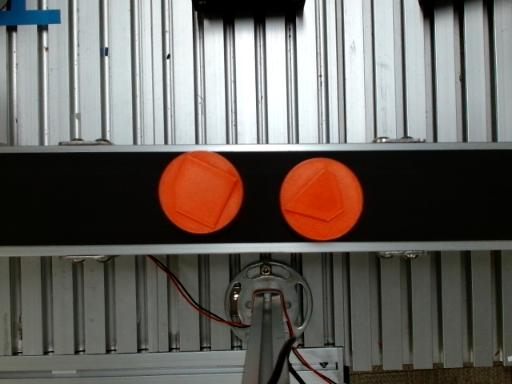Not_Square: (171, 155, 237, 229), (282, 167, 343, 219)
Orange_Waper: (159, 149, 244, 231), (278, 158, 363, 239)
